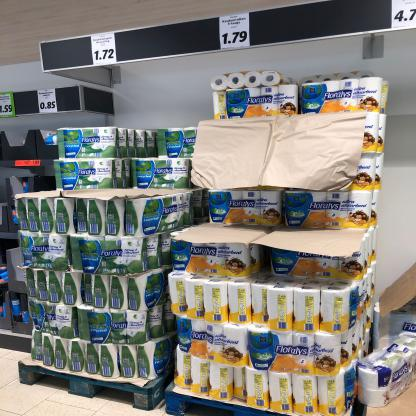prtg: (220, 14, 251, 50), (92, 34, 117, 66), (392, 1, 416, 30), (38, 90, 58, 114), (1, 94, 14, 117), (16, 161, 41, 167)
